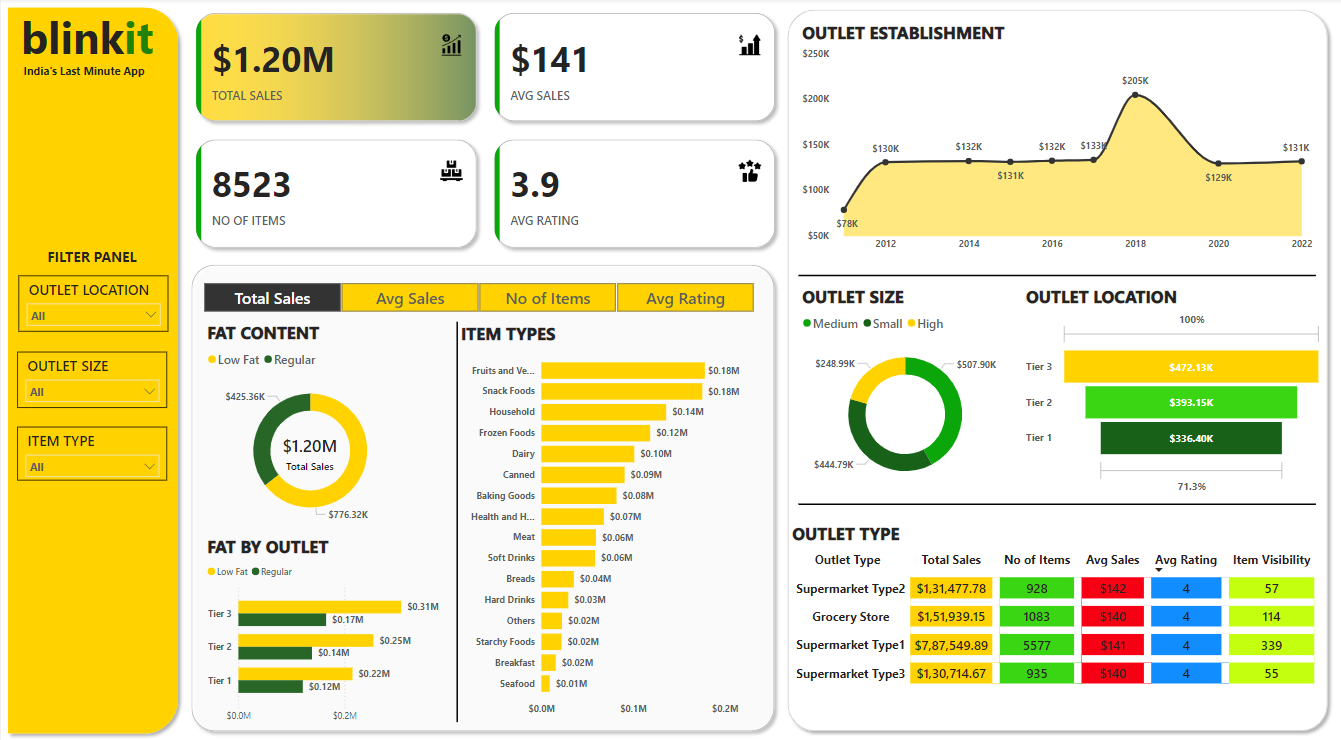

What the dashboard file says about the page in this screenshot:
{"tool":"powerbi","page":{"name":"Page 1","canvas":[1800,1000],"ordinal":0},"visuals":[{"type":"shape","box":[0,3.4,246.3,992],"z":0},{"type":"textbox","box":[21.8,6.7,212.8,93.8],"z":1000},{"type":"textbox","box":[25,81.7,198.3,36.7],"z":2000},{"type":"cardVisual","fields":{"Data":["BlinkIT Grocery Data.Total Sales","BlinkIT Grocery Data.Avg Sales","BlinkIT Grocery Data.No of Items","BlinkIT Grocery Data.Avg Rating"]},"box":[244.6,3.4,811,348.5],"z":3000},{"type":"shape","box":[246.3,348.5,799.3,643.4],"z":4000},{"type":"donutChart","title":"FAT CONTENT","fields":{"Y":["BlinkIT Grocery Data.Total Sales"],"Category":["BlinkIT Grocery Data.Item Fat Content"]},"box":[271.7,431.7,286.7,286.7],"z":5000},{"type":"slicer","fields":{"Values":["Metrics.Metrics"]},"box":[246.7,375,786.7,45],"z":6000},{"type":"cardVisual","fields":{"Data":["BlinkIT Grocery Data.Total Sales"]},"box":[300,550,228.3,120],"z":7000},{"type":"clusteredBarChart","title":"FAT BY OUTLET","fields":{"Y":["BlinkIT Grocery Data.Total Sales"],"Category":["BlinkIT Grocery Data.Outlet Location Type"],"Series":["BlinkIT Grocery Data.Item Fat Content"]},"box":[271.7,718.3,340,261.7],"z":8000},{"type":"shape","box":[600,433.3,23.3,536.7],"z":9000},{"type":"clusteredBarChart","title":"ITEM TYPES","fields":{"Y":["BlinkIT Grocery Data.Total Sales"],"Category":["BlinkIT Grocery Data.Item Type"]},"box":[611.7,433.3,401.7,536.7],"z":10000},{"type":"shape","box":[1045,6.7,741.7,985],"z":11000},{"type":"lineChart","title":"OUTLET ESTABLISHMENT","fields":{"Category":["BlinkIT Grocery Data.Outlet Establishment Year"],"Y":["BlinkIT Grocery Data.Total Sales"]},"box":[1069,30.2,693.7,318.4],"z":12000},{"type":"donutChart","title":"OUTLET SIZE","fields":{"Y":["BlinkIT Grocery Data.Total Sales"],"Category":["BlinkIT Grocery Data.Outlet Size"]},"box":[1069,383.7,286.5,286.5],"z":13000},{"type":"funnel","title":"OUTLET LOCATION","fields":{"Category":["BlinkIT Grocery Data.Outlet Location Type"],"Y":["BlinkIT Grocery Data.Total Sales"]},"box":[1369,383.7,407.2,286.5],"z":14000},{"type":"shape","box":[1069,348.5,693.7,46.9],"z":15000},{"type":"shape","box":[1069,655.2,693.7,46.9],"z":16000},{"type":"pivotTable","title":"OUTLET TYPE","fields":{"Rows":["BlinkIT Grocery Data.Outlet Type"],"Values":["BlinkIT Grocery Data.Total Sales","BlinkIT Grocery Data.No of Items","BlinkIT Grocery Data.Avg Sales","BlinkIT Grocery Data.Avg Rating","Sum(BlinkIT Grocery Data.Item Visibility)"]},"box":[1055.6,702.1,744,241.3],"z":17000},{"type":"slicer","fields":{"Values":["BlinkIT Grocery Data.Outlet Location Type"]},"box":[23.5,372,201.1,75.4],"z":18000},{"type":"slicer","fields":{"Values":["BlinkIT Grocery Data.Item Type"]},"box":[21.8,574.7,201.1,72.1],"z":19000},{"type":"slicer","fields":{"Values":["BlinkIT Grocery Data.Outlet Size"]},"box":[21.8,474.2,201.1,75.4],"z":20000},{"type":"textbox","box":[57,328.4,134,40.2],"z":21000}]}

Visuals, with their boxes in screenshot pixels (x1, y1, x2, y2), scaled from the page's 1800x1000 canvas onto the 1341x740 screenshot:
shape: {"x1": 0, "y1": 3, "x2": 183, "y2": 737}
textbox: {"x1": 16, "y1": 5, "x2": 175, "y2": 74}
textbox: {"x1": 19, "y1": 60, "x2": 166, "y2": 88}
cardVisual - BlinkIT Grocery Data.Total Sales x BlinkIT Grocery Data.Avg Sales: {"x1": 182, "y1": 3, "x2": 786, "y2": 260}
shape: {"x1": 183, "y1": 258, "x2": 779, "y2": 734}
"FAT CONTENT" donutChart: {"x1": 202, "y1": 319, "x2": 416, "y2": 532}
slicer - Metrics.Metrics: {"x1": 184, "y1": 278, "x2": 770, "y2": 311}
cardVisual - BlinkIT Grocery Data.Total Sales: {"x1": 224, "y1": 407, "x2": 394, "y2": 496}
"FAT BY OUTLET" clusteredBarChart: {"x1": 202, "y1": 532, "x2": 456, "y2": 725}
shape: {"x1": 447, "y1": 321, "x2": 464, "y2": 718}
"ITEM TYPES" clusteredBarChart: {"x1": 456, "y1": 321, "x2": 755, "y2": 718}
shape: {"x1": 779, "y1": 5, "x2": 1331, "y2": 734}
"OUTLET ESTABLISHMENT" lineChart: {"x1": 796, "y1": 22, "x2": 1313, "y2": 258}
"OUTLET SIZE" donutChart: {"x1": 796, "y1": 284, "x2": 1010, "y2": 496}
"OUTLET LOCATION" funnel: {"x1": 1020, "y1": 284, "x2": 1323, "y2": 496}
shape: {"x1": 796, "y1": 258, "x2": 1313, "y2": 293}
shape: {"x1": 796, "y1": 485, "x2": 1313, "y2": 520}
"OUTLET TYPE" pivotTable: {"x1": 786, "y1": 520, "x2": 1340, "y2": 698}
slicer - BlinkIT Grocery Data.Outlet Location Type: {"x1": 18, "y1": 275, "x2": 167, "y2": 331}
slicer - BlinkIT Grocery Data.Item Type: {"x1": 16, "y1": 425, "x2": 166, "y2": 479}
slicer - BlinkIT Grocery Data.Outlet Size: {"x1": 16, "y1": 351, "x2": 166, "y2": 407}
textbox: {"x1": 42, "y1": 243, "x2": 142, "y2": 273}
